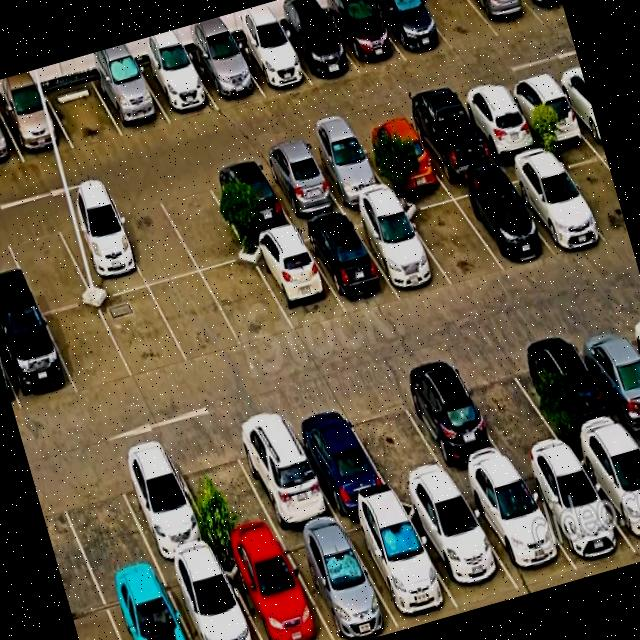empty: (453, 345, 568, 466), (167, 429, 279, 552), (51, 458, 157, 586), (339, 381, 454, 498), (399, 189, 503, 285), (155, 174, 249, 271), (107, 190, 199, 285), (2, 217, 92, 313), (97, 286, 189, 379), (149, 272, 242, 363), (43, 302, 133, 395), (550, 139, 629, 241), (202, 259, 294, 346), (44, 77, 123, 148), (417, 0, 498, 51)
occupied: (340, 502, 460, 630), (393, 361, 514, 484), (278, 521, 399, 640), (400, 487, 519, 607), (226, 407, 338, 534), (516, 452, 636, 570), (459, 468, 577, 588), (108, 443, 217, 567), (282, 397, 394, 516), (519, 327, 628, 447), (218, 537, 333, 640), (499, 152, 607, 252), (447, 173, 552, 269), (298, 215, 399, 314), (248, 230, 346, 332), (348, 202, 452, 296), (53, 203, 147, 300), (161, 554, 261, 640), (567, 315, 640, 430), (573, 432, 640, 557), (0, 311, 77, 412), (403, 101, 496, 181), (204, 159, 294, 241), (256, 145, 344, 224), (303, 132, 391, 208), (353, 117, 443, 191), (457, 85, 543, 160), (99, 570, 191, 640), (503, 72, 588, 145), (324, 0, 406, 74), (277, 14, 359, 85), (91, 66, 170, 136), (137, 55, 218, 123), (231, 31, 312, 96), (0, 90, 73, 162), (188, 43, 264, 109), (369, 0, 452, 60), (471, 0, 543, 35), (0, 113, 24, 169), (526, 0, 566, 22)
